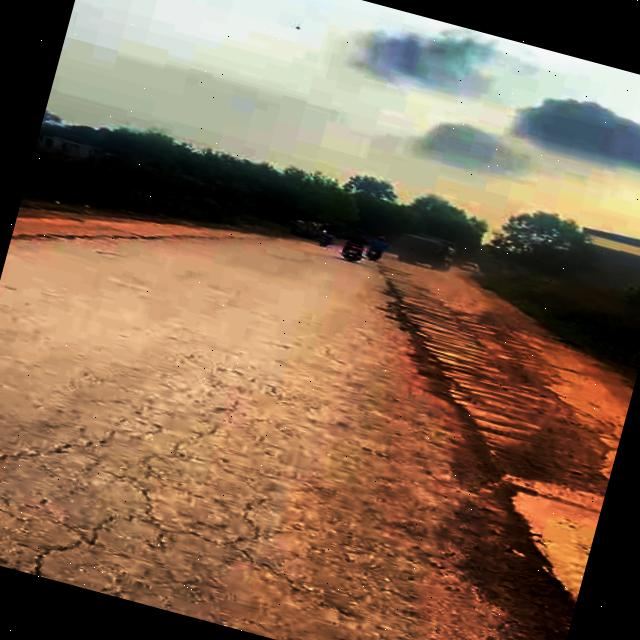pothole: (421, 515, 590, 640)
